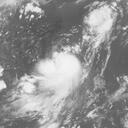cyclone: (41, 52, 84, 93)
